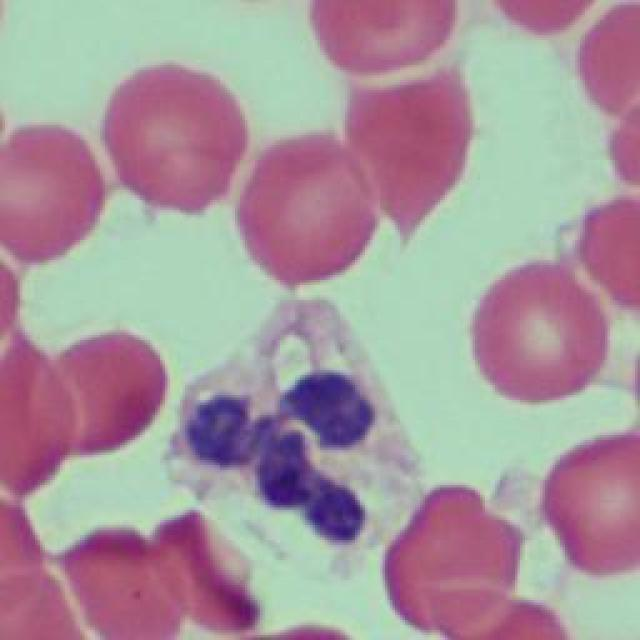RBC: (349, 61, 479, 249), (102, 64, 248, 211), (236, 136, 379, 286), (381, 484, 521, 634), (469, 265, 609, 405), (61, 525, 191, 640), (46, 331, 159, 459), (0, 126, 102, 263), (545, 435, 640, 577), (151, 514, 261, 634), (0, 335, 78, 493), (309, 0, 456, 75), (428, 585, 570, 640), (577, 0, 640, 122), (580, 196, 640, 309), (0, 503, 50, 605), (0, 577, 77, 640), (492, 0, 598, 35), (607, 121, 640, 183)
WBC: (166, 295, 429, 577)
